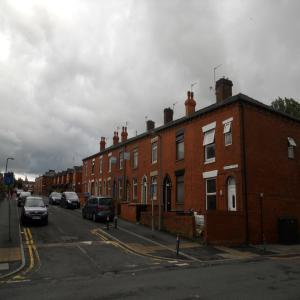Vehicle-registration-plate: (33, 217, 41, 220)
